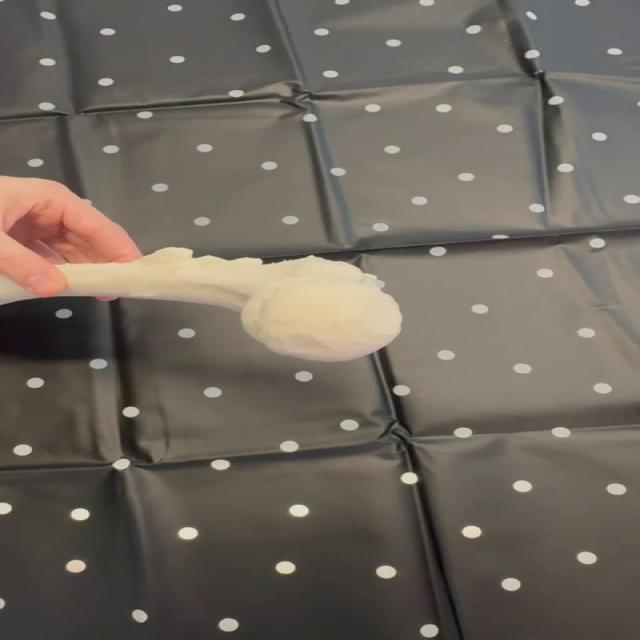bones: (56, 248, 402, 362)
